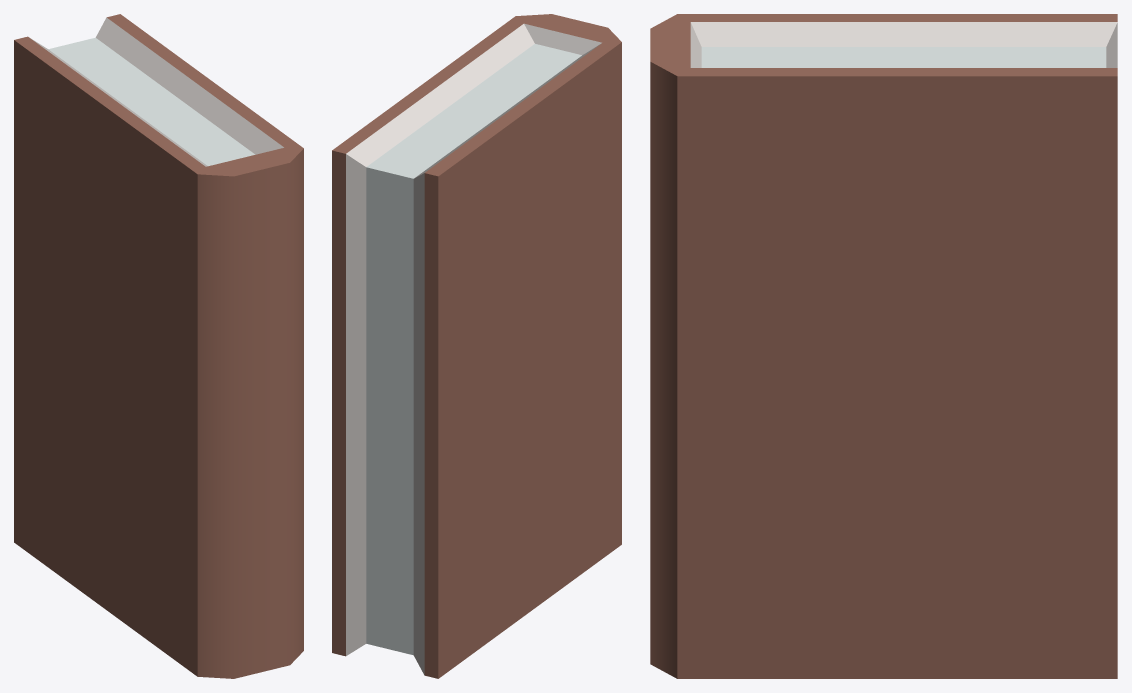
File: book6.fbx
3 renders of one model, left to right at view 1: azimuth 30°, elevation 25°; view 2: azimuth 150°, elevation 25°; view 3: azimuth 270°, elevation 25°, orthographic. The views are drawn at different scales.
Visible parts, largest first — view 1: book6; view 2: book6; view 3: book6.
Part boxes in pixels (x1,y1,x2,y2): book6: [14, 14, 303, 678]; book6: [332, 14, 621, 678]; book6: [650, 14, 1117, 678].
Bounding box in the file's own units: 0.3662 × 1.65 × 1.16.
1 material, 1 textured.
